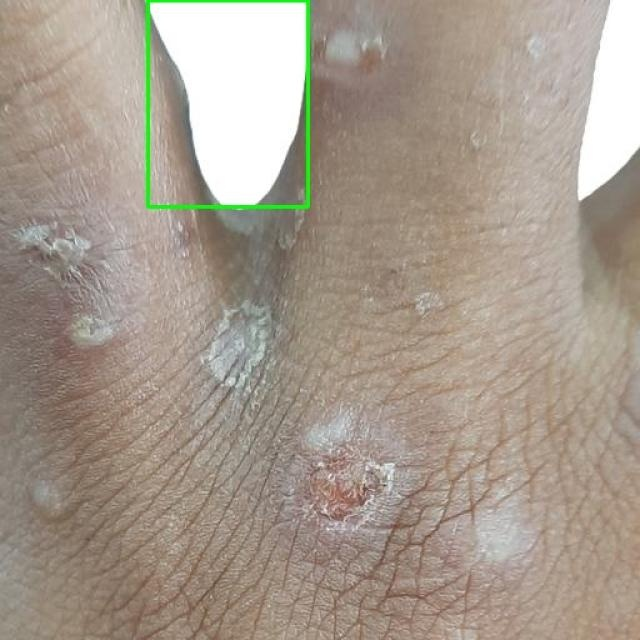Scabies: (148, 0, 308, 206)
